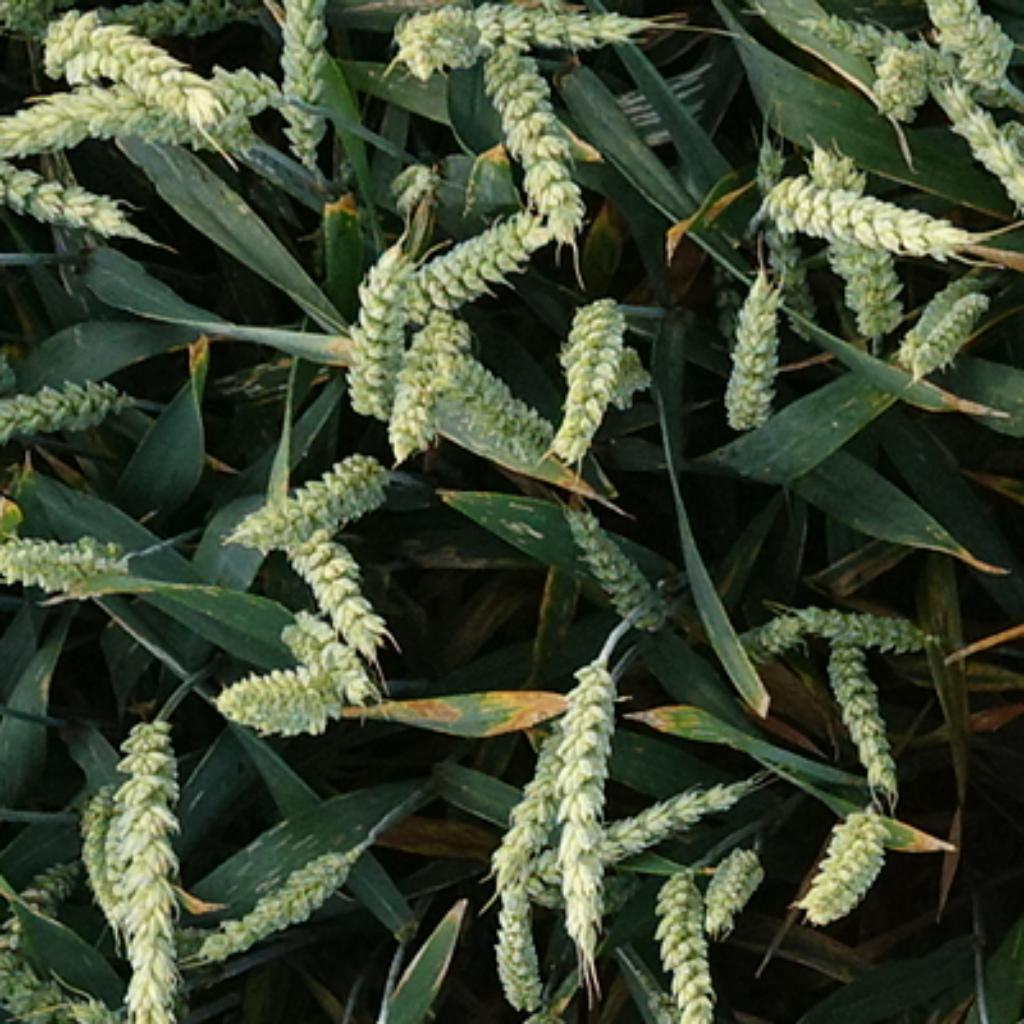0-0: (2, 64, 286, 156), (107, 706, 189, 1024), (537, 765, 744, 888), (550, 660, 624, 998), (33, 7, 232, 130), (481, 40, 588, 248), (760, 159, 970, 264), (363, 2, 665, 74), (194, 842, 363, 970), (783, 10, 1018, 97), (810, 135, 905, 340), (547, 486, 683, 629), (428, 341, 569, 474), (232, 437, 399, 547), (273, 535, 404, 655), (481, 711, 568, 888), (399, 212, 552, 312), (811, 629, 908, 783), (547, 294, 629, 468), (746, 133, 813, 343), (378, 312, 471, 460), (934, 71, 1024, 221), (343, 238, 417, 419), (796, 802, 901, 928), (209, 655, 355, 742), (2, 148, 135, 243), (645, 862, 721, 1024), (904, 272, 1006, 384), (271, 2, 340, 166), (2, 366, 138, 442), (2, 519, 140, 593), (279, 609, 376, 711), (2, 852, 99, 954), (791, 591, 947, 652), (71, 783, 130, 944), (725, 264, 780, 423), (486, 880, 553, 1008), (924, 2, 1024, 87), (565, 335, 663, 417), (640, 967, 775, 1024), (2, 955, 109, 1023), (698, 837, 768, 939), (865, 28, 944, 117), (95, 0, 254, 31), (737, 604, 811, 665), (384, 161, 448, 217), (591, 867, 655, 921)
